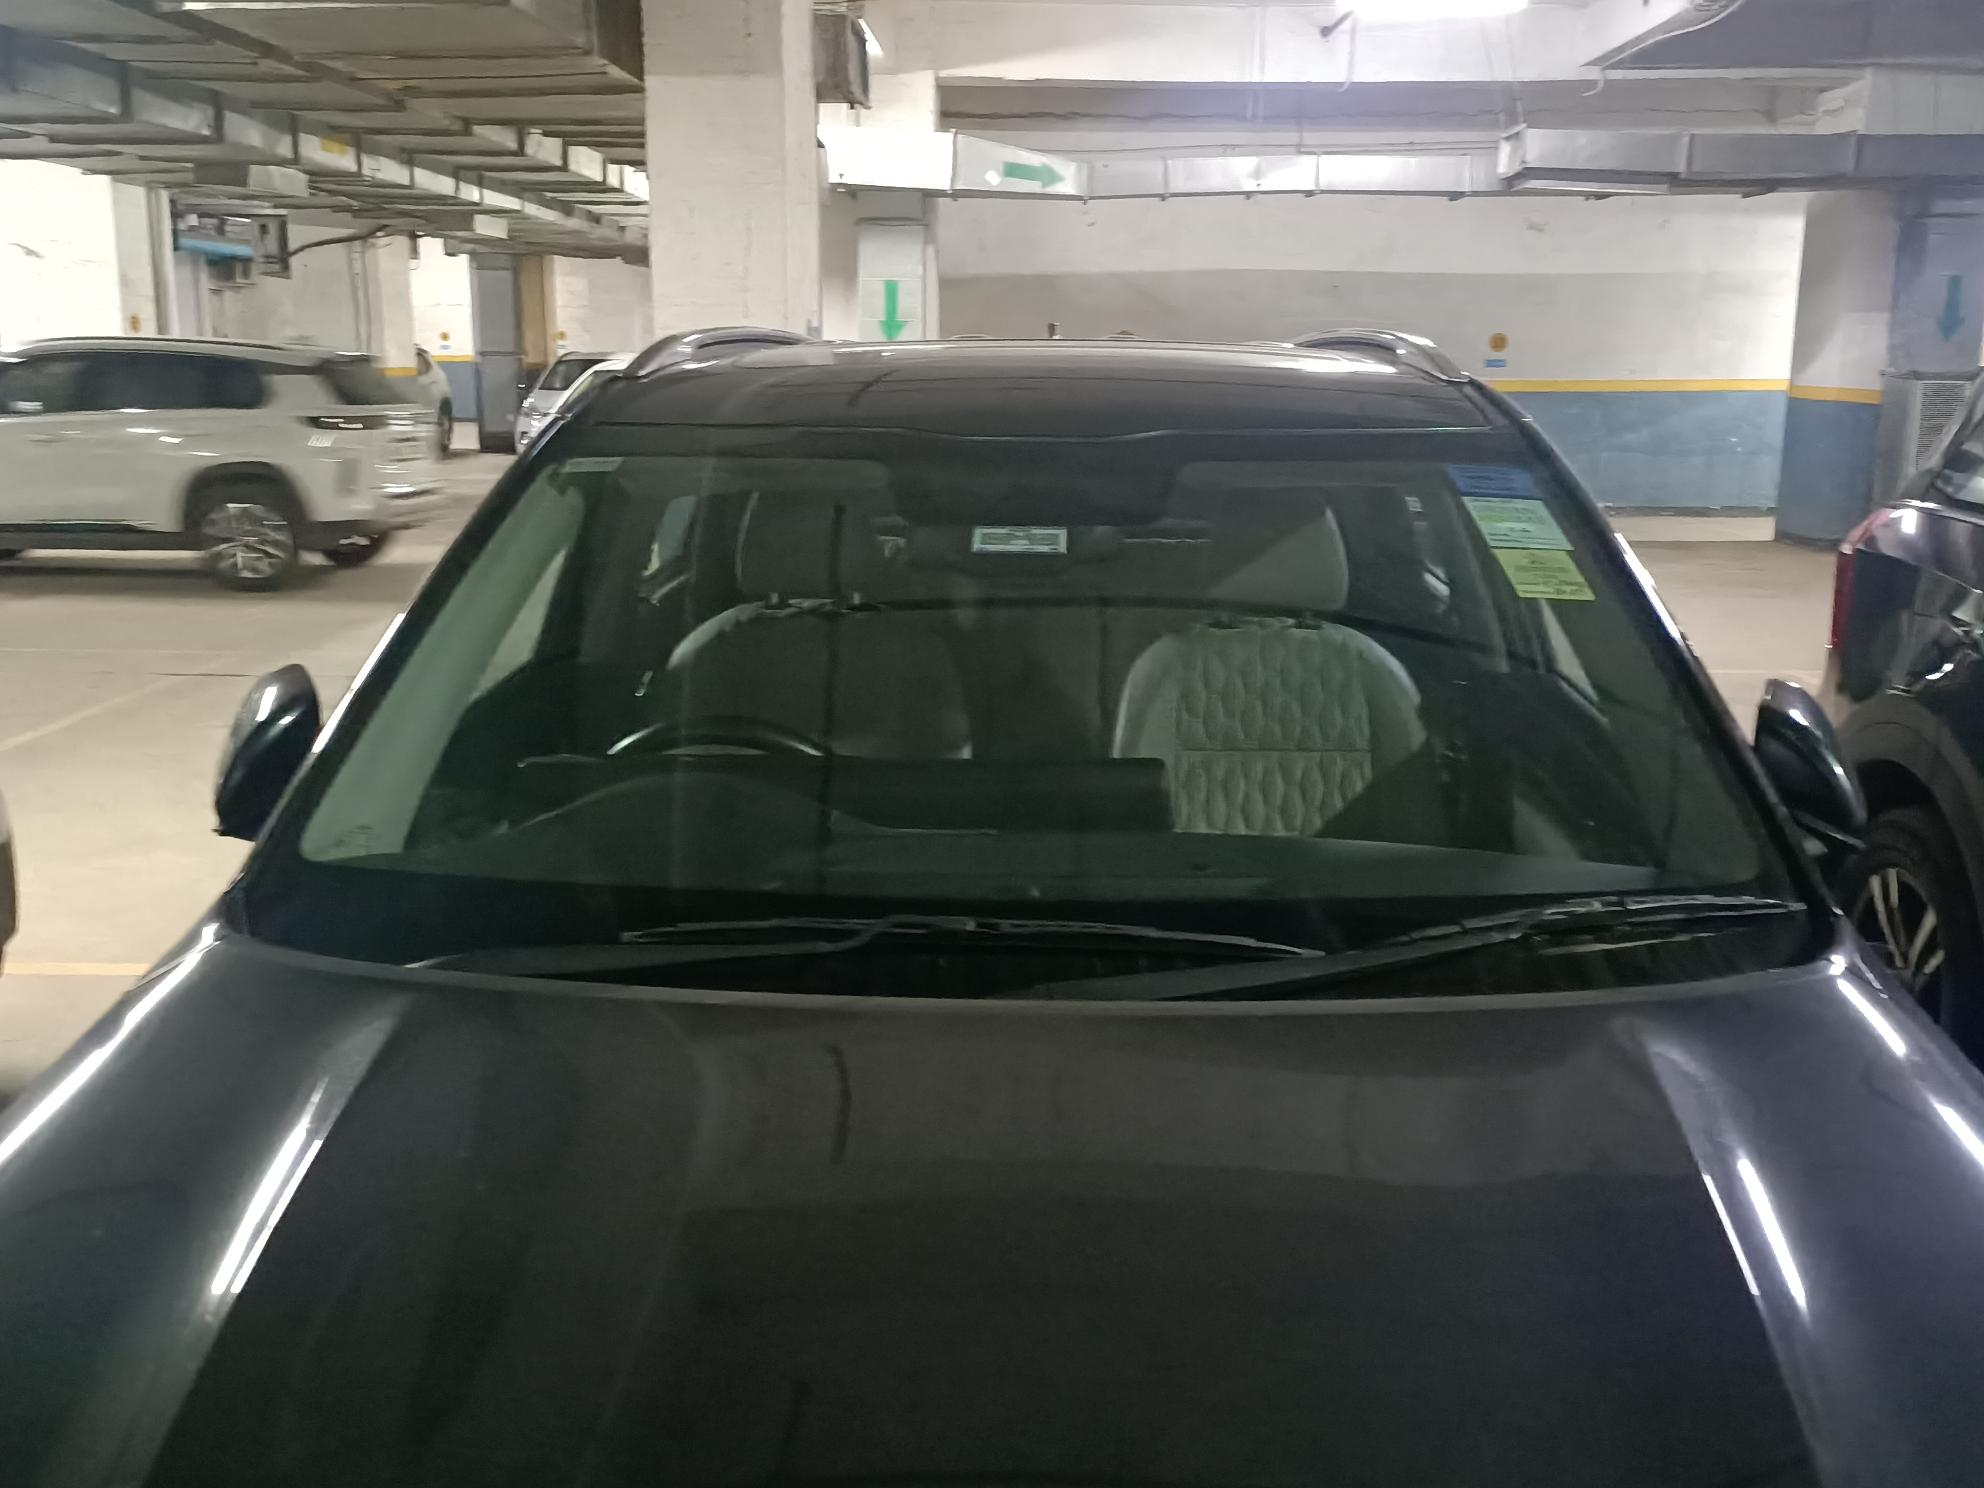FastTag: (961, 506, 1083, 564)
not a FastTag: (1484, 536, 1614, 619), (1433, 445, 1554, 502), (1462, 495, 1584, 547)
